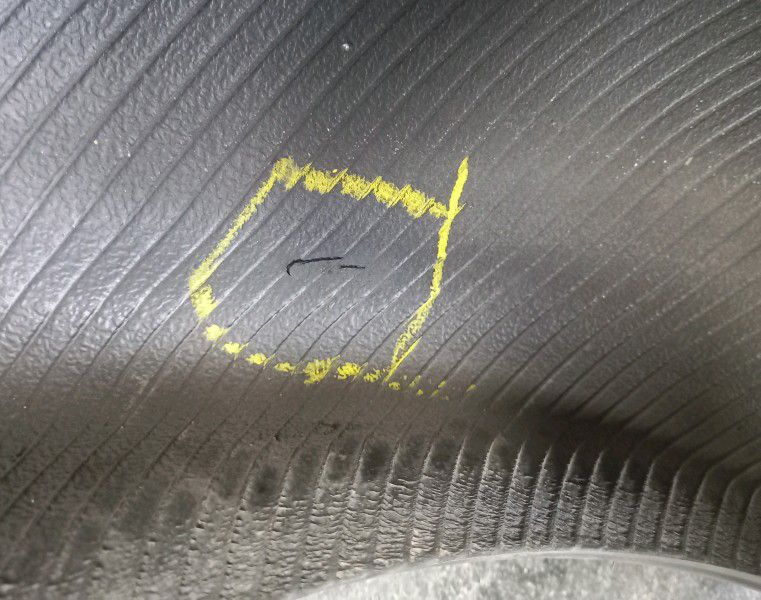cut: (285, 250, 371, 282)
